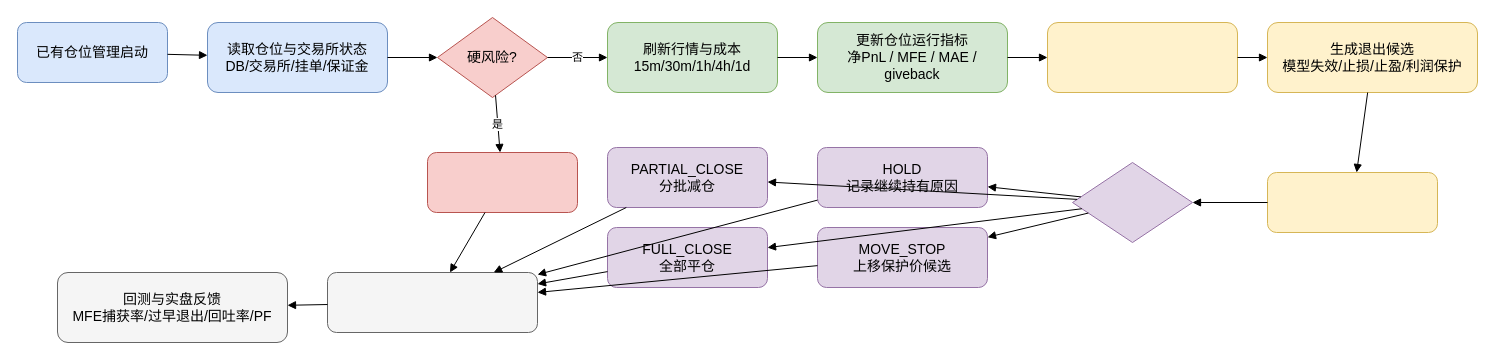
Some shapes in this 1495 by 360 pixel diagram are drawn without their labels. The shapes that lost their labels are listed below. From the top down, each one's centre as x and y in pixels, then its label:
pixel 1142 57: 识别仓位状态 亏损/保本/盈利/runner/衰竭
pixel 502 182: 硬风险退出 / 人工复核
pixel 1132 202: 动作选择
pixel 1352 202: 候选评分与优先级
pixel 432 302: 写入退出快照与账本归因
